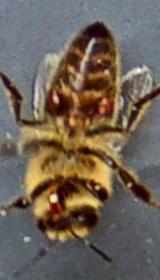varroa_mite: (86, 90, 120, 125), (40, 79, 68, 120)
